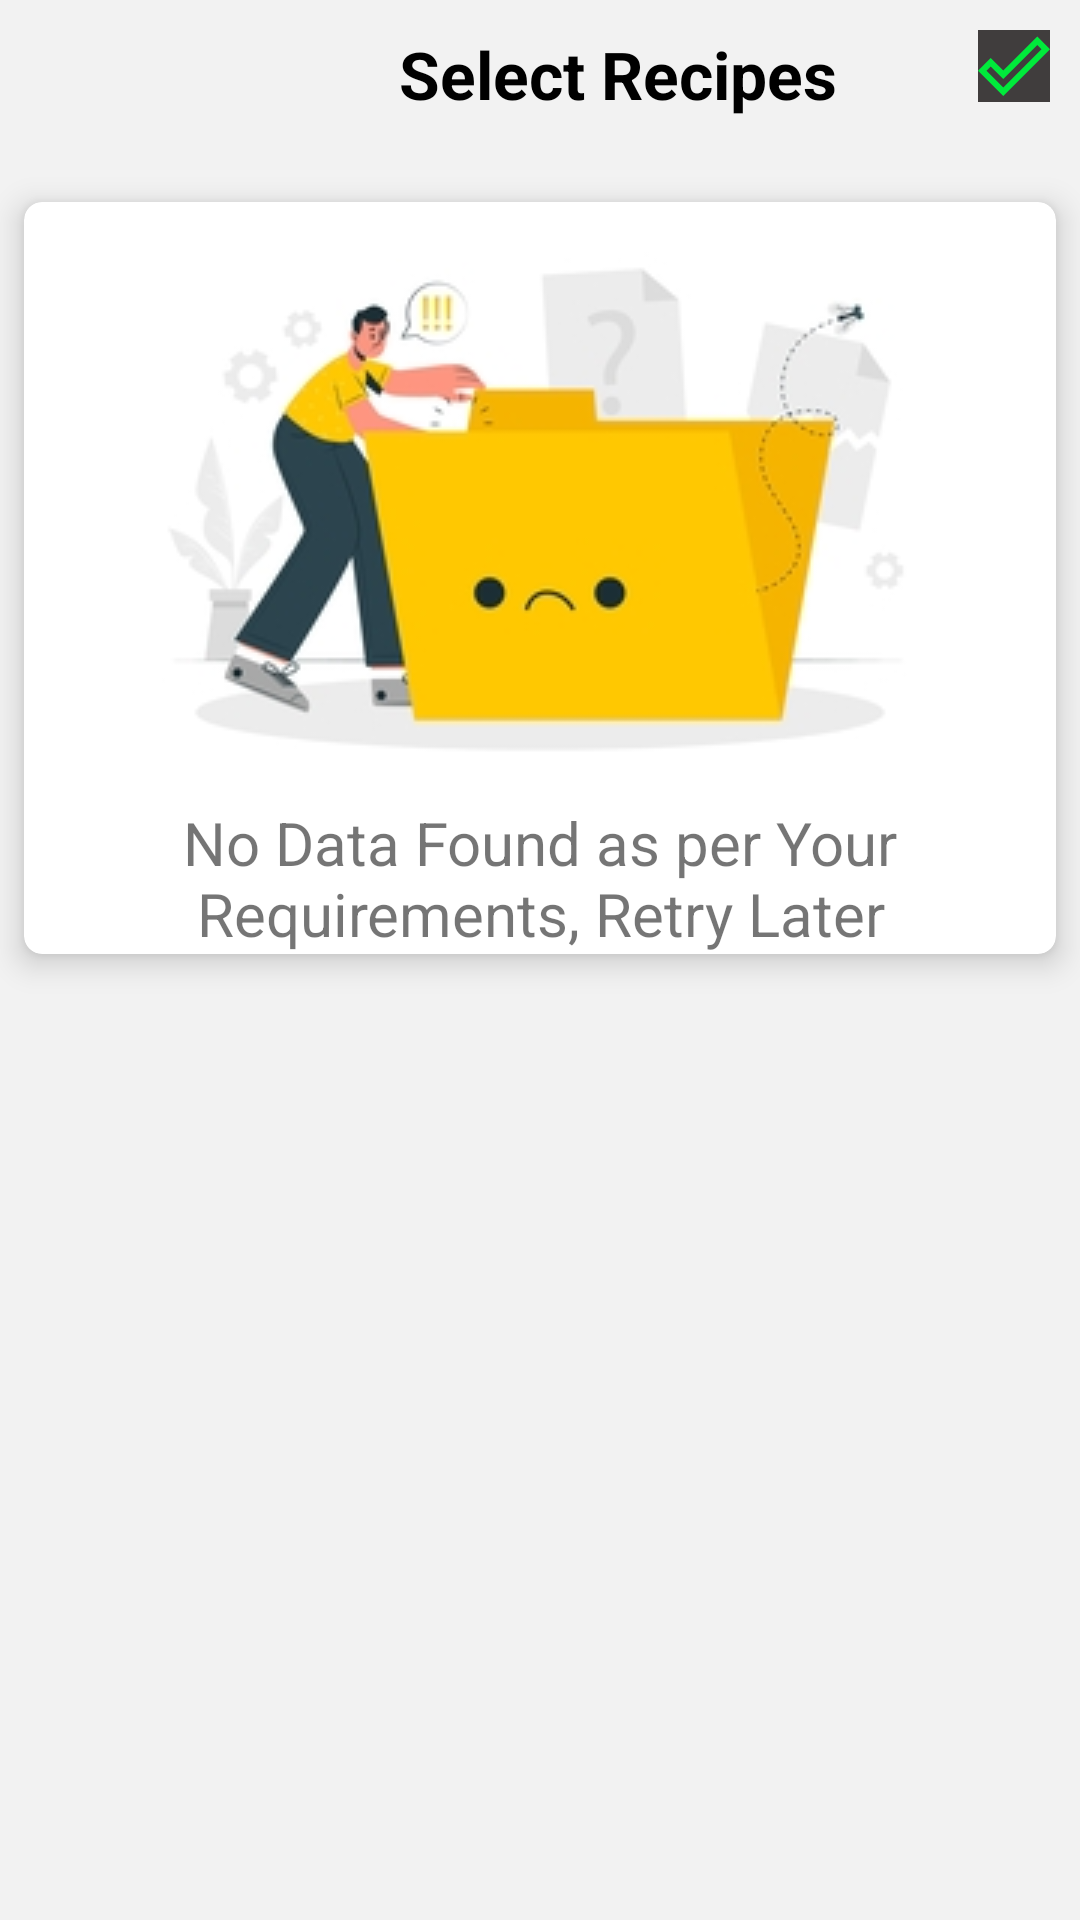

Icons on this 1080w x 1920h Android screen, each with the point to tap as point (x, y):
done: point (1014, 66)
